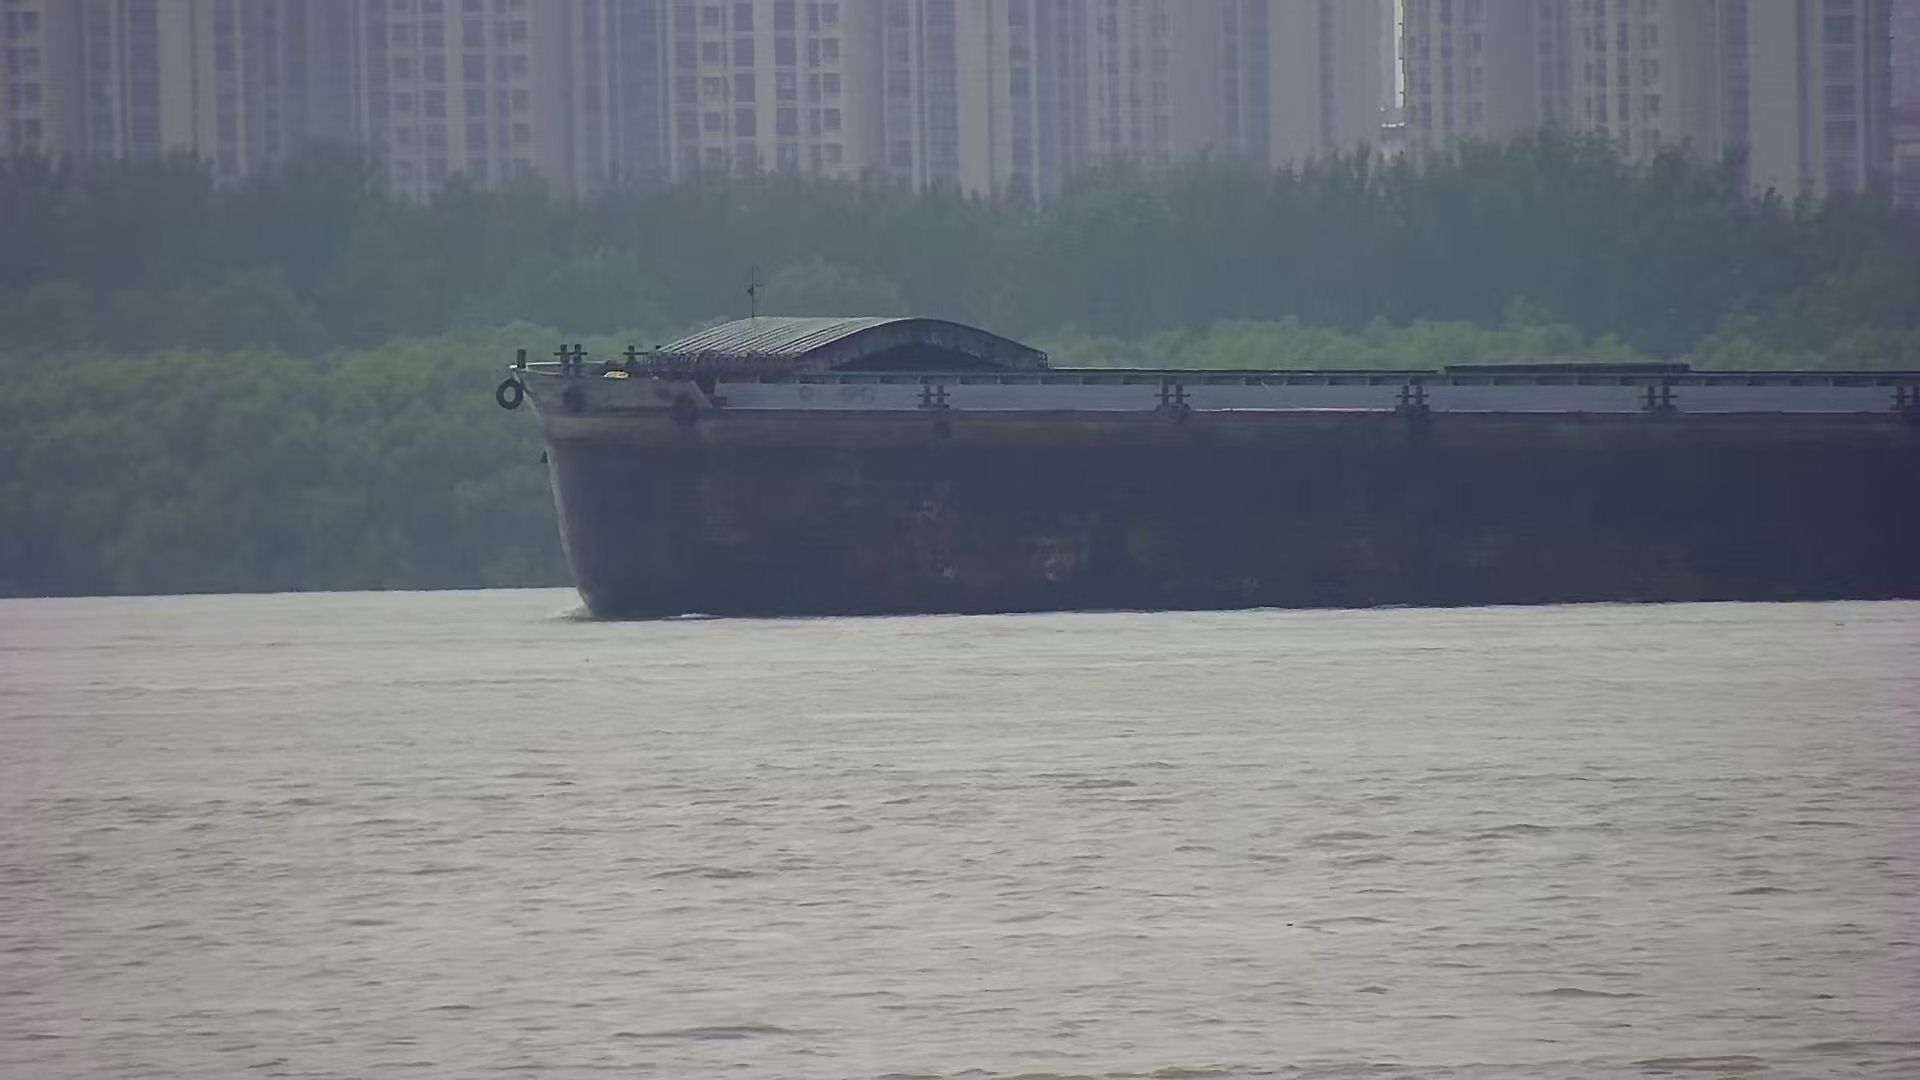ship: (500, 262, 1920, 618)
